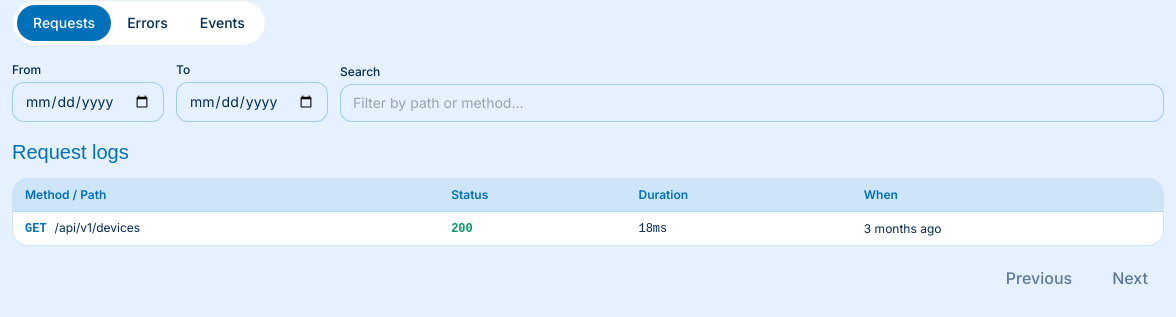
Test: MonitoringLogsPage › switches to the Events tab and renders app events
The image size is (1176, 317).
Check: the heading "Request logs" is shown, box x1=12 y1=141 x2=129 y2=163
Click the tab "Events": (222, 23) x1=184 y1=5 x2=261 y2=41
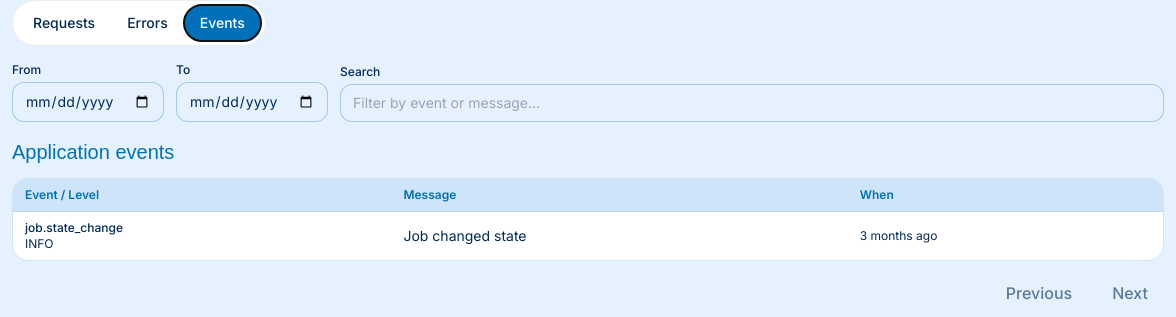
Check: the heading "Application events" is shown, box x1=12 y1=141 x2=174 y2=163
Check: the text "job.state_change" is shown, box x1=25 y1=220 x2=123 y2=235
Check: the text "Job changed state" is shown, box x1=404 y1=227 x2=527 y2=244
